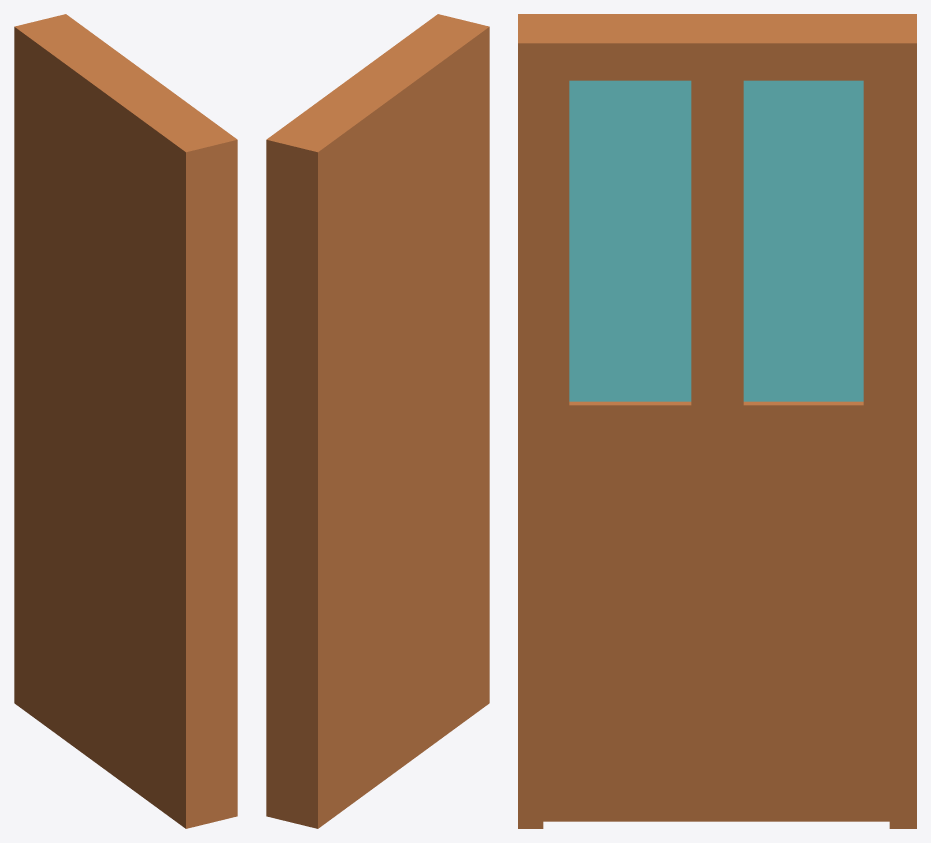
File: Door_Tavern.fbx
3 renders of one model, left to right at view 1: azimuth 30°, elevation 25°; view 2: azimuth 150°, elevation 25°; view 3: azimuth 270°, elevation 25°, orthographic. The views are drawn at different scales.
Visible parts, largest first — view 1: Door; view 2: Door; view 3: Door.
Part boxes in pixels (x1=…): Door: x1=14, y1=14, x2=237, y2=828; Door: x1=266, y1=14, x2=489, y2=828; Door: x1=518, y1=14, x2=916, y2=828.
Size of the model in its own units: 4 by 23 by 50.
